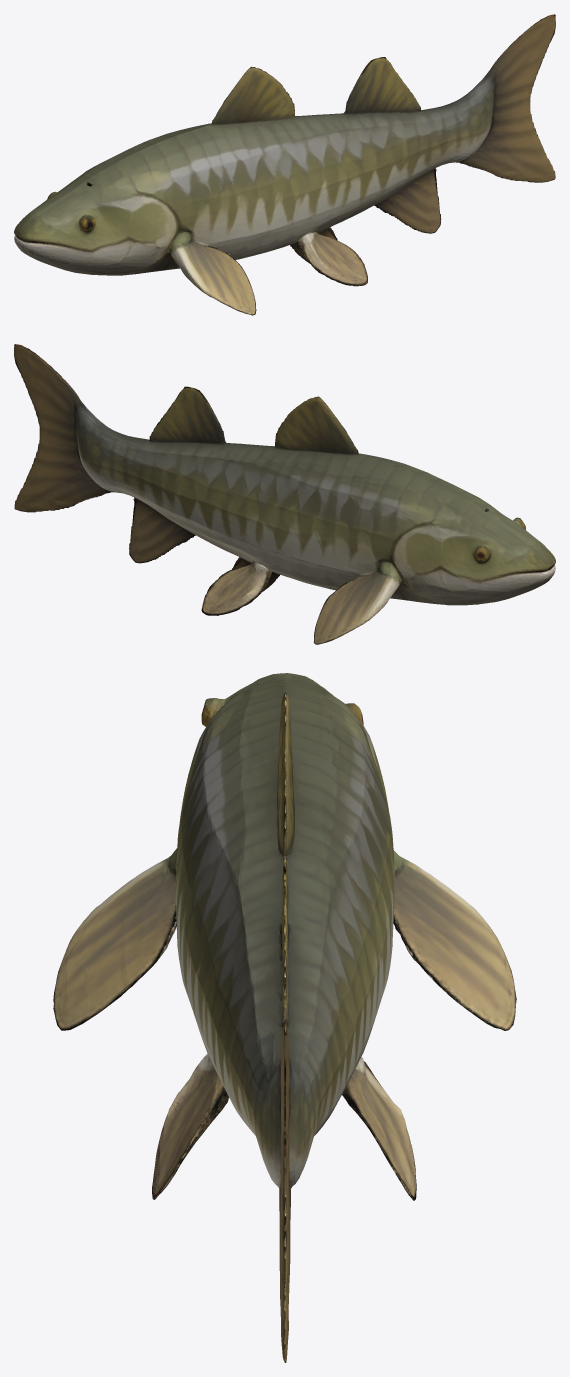
3 views of the same model, one above another, from view 1: azimuth 30°, elevation 25°; view 2: azimuth 150°, elevation 25°; view 3: azimuth 270°, elevation 25° (orthographic). The views are drawn at different scales.
Parts seen in each view (by area): view 1: world; view 2: world; view 3: world.
Part boxes in pixels (bbox=[...]): world: bbox=[14, 14, 555, 315]; world: bbox=[14, 344, 555, 644]; world: bbox=[53, 673, 516, 1362].
Bounding box in the file's own units: 1 × 0.3941 × 0.373.
Materials: 1 (1 with a texture image).
